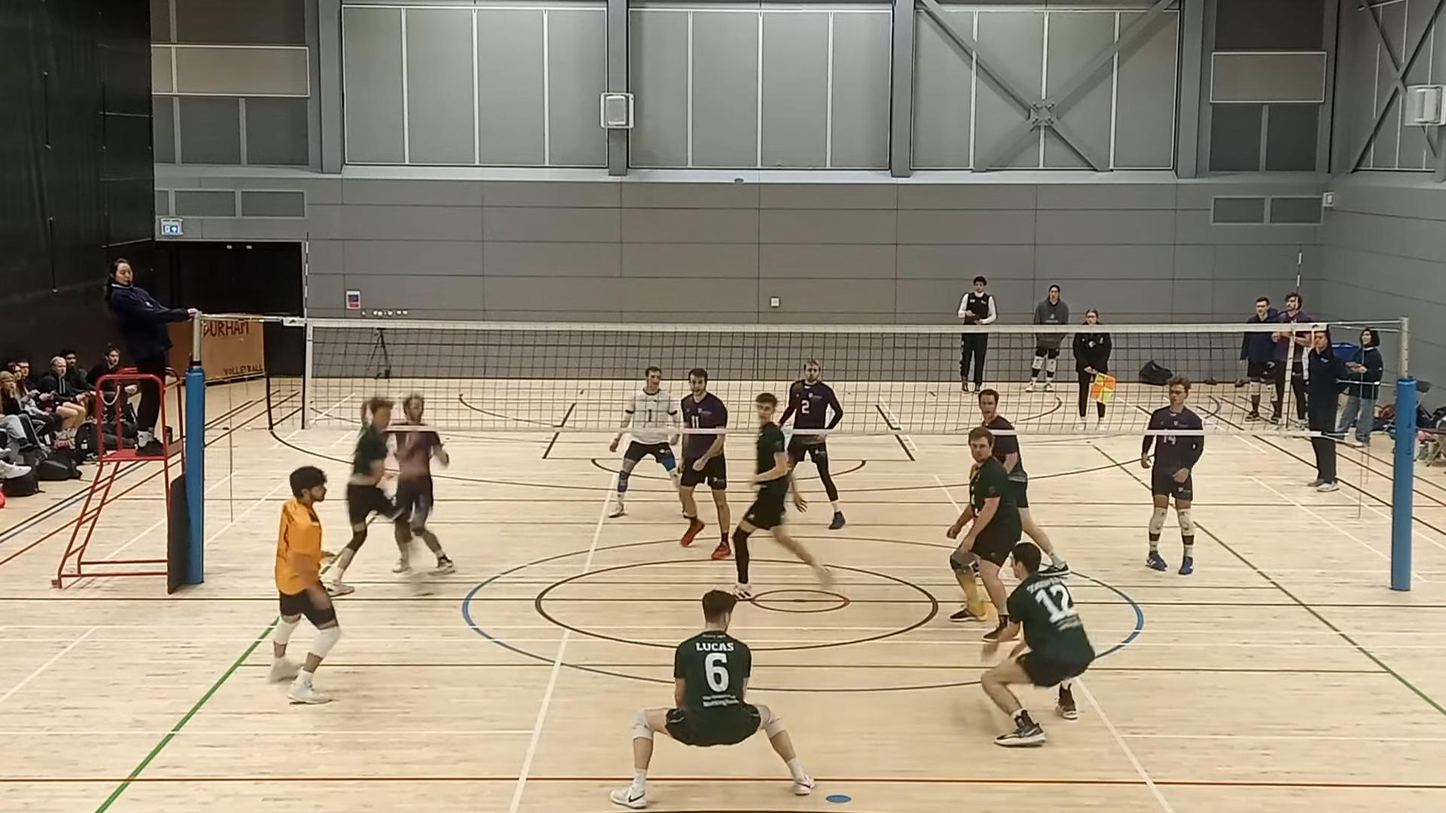Dig: (978, 538, 1098, 757)
Player: (611, 590, 813, 808), (732, 393, 831, 599), (978, 389, 1069, 574), (270, 466, 340, 704), (947, 427, 1021, 641), (327, 397, 397, 595), (1140, 375, 1203, 574), (389, 394, 454, 574), (779, 359, 845, 529), (609, 366, 679, 517), (679, 368, 731, 559)
